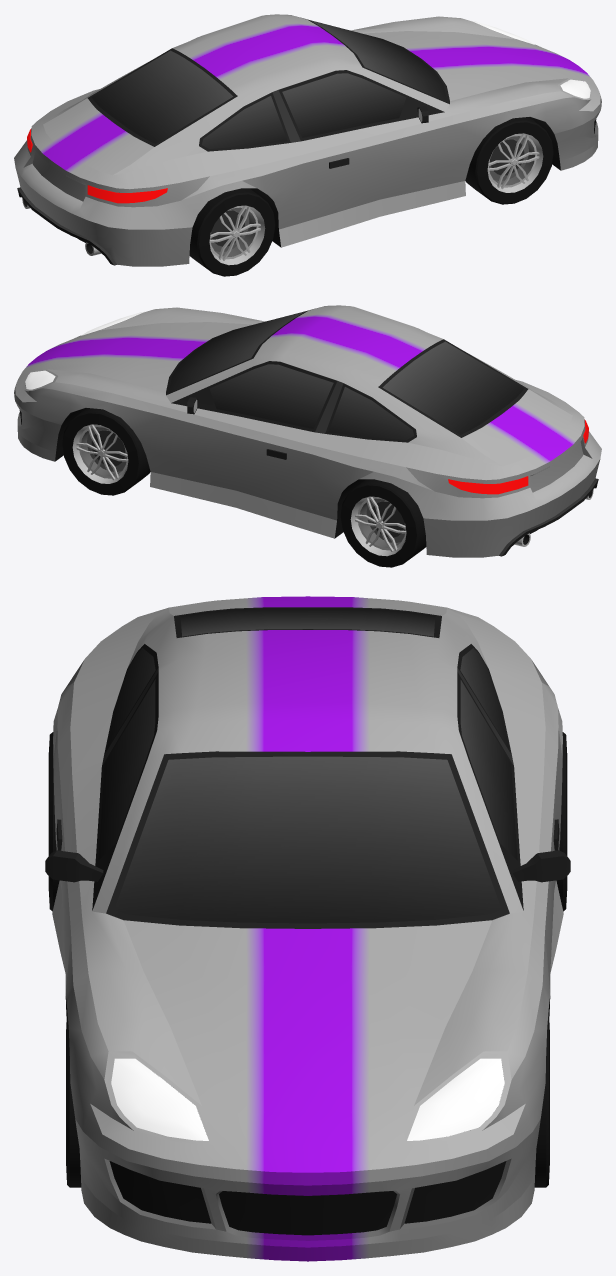
The model's file is Car_132.glb.
The picture shows the model from 3 angles, top to bottom: view 1: azimuth 30°, elevation 25°; view 2: azimuth 150°, elevation 25°; view 3: azimuth 270°, elevation 25°; orthographic projection. The views are drawn at different scales.
Parts seen in each view (by area): view 1: Car_132, wheel_3_Car_132_Wheel_2R, wheel_1_Car_132_Wheel_1R; view 2: Car_132, wheel_2_Car_132_Wheel_2L, wheel_0_Car_132_Wheel_1L; view 3: Car_132, wheel_1_Car_132_Wheel_1R, wheel_0_Car_132_Wheel_1L, wheel_3_Car_132_Wheel_2R, wheel_2_Car_132_Wheel_2L.
Boxes of the visible parts, x1,y1,x2,y2 form: Car_132: (14,14,601,266); wheel_3_Car_132_Wheel_2R: (189,188,275,276); wheel_1_Car_132_Wheel_1R: (465,117,553,204); Car_132: (14,305,601,557); wheel_2_Car_132_Wheel_2L: (340,479,426,567); wheel_0_Car_132_Wheel_1L: (62,408,150,495); Car_132: (45,596,570,1261); wheel_1_Car_132_Wheel_1R: (66,1010,81,1187); wheel_0_Car_132_Wheel_1L: (534,1010,549,1187); wheel_3_Car_132_Wheel_2R: (48,732,59,911); wheel_2_Car_132_Wheel_2L: (556,732,567,911).
Bounding box in the file's own units: 4.89 × 1.41 × 2.06.
3 materials, 3 textured.
